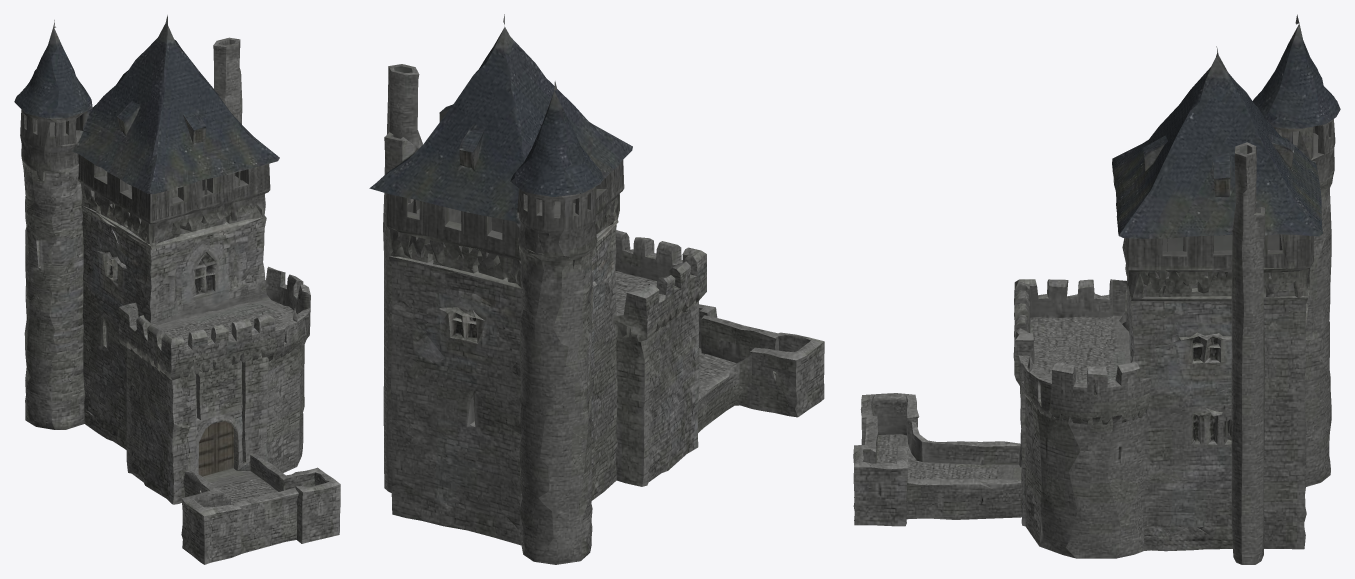
The model's file is keep_medieval.glb.
3 views of the same model, side by side, from view 1: azimuth 30°, elevation 25°; view 2: azimuth 150°, elevation 25°; view 3: azimuth 270°, elevation 25° (orthographic). The views are drawn at different scales.
Parts seen in each view (by area): view 1: keep_medieval; view 2: keep_medieval; view 3: keep_medieval.
Part boxes in pixels (x1,y1,x2,y2): keep_medieval: [14, 15, 340, 564]; keep_medieval: [369, 14, 824, 564]; keep_medieval: [853, 14, 1340, 564].
Bounding box in the file's own units: 0.9992 × 1.91 × 1.78.
Materials: 1 (1 with a texture image).
